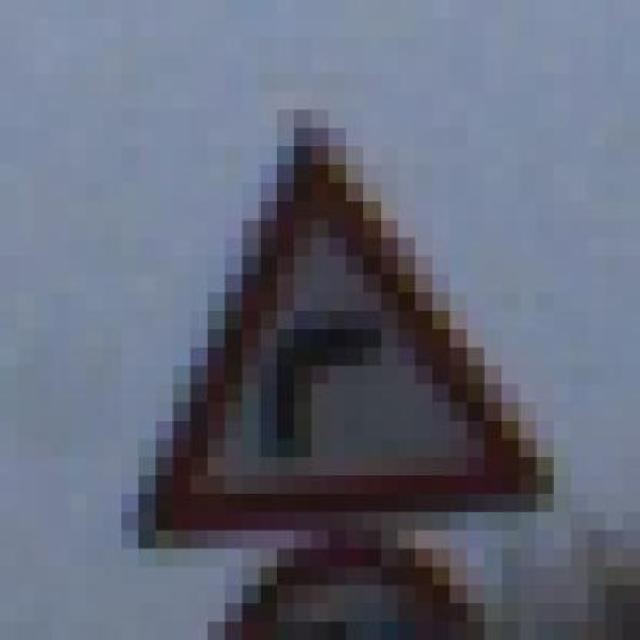Dangerous Rright Curve Ahead: (116, 78, 549, 553)
